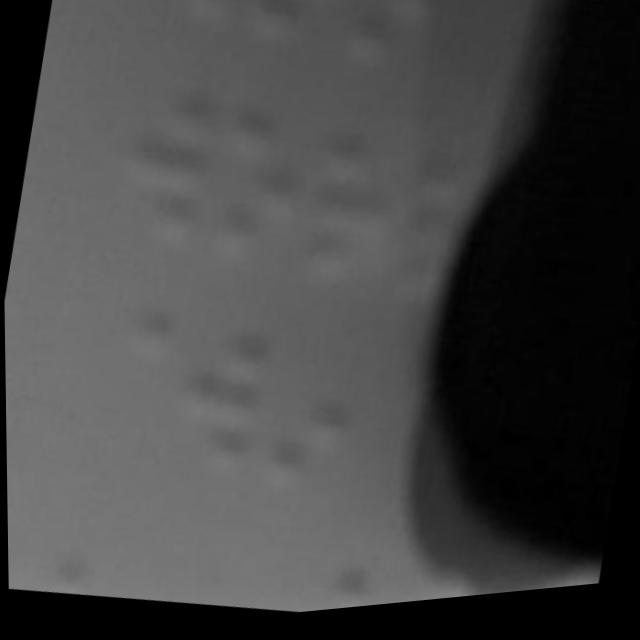braiile: (131, 513, 224, 614), (41, 504, 131, 605)
